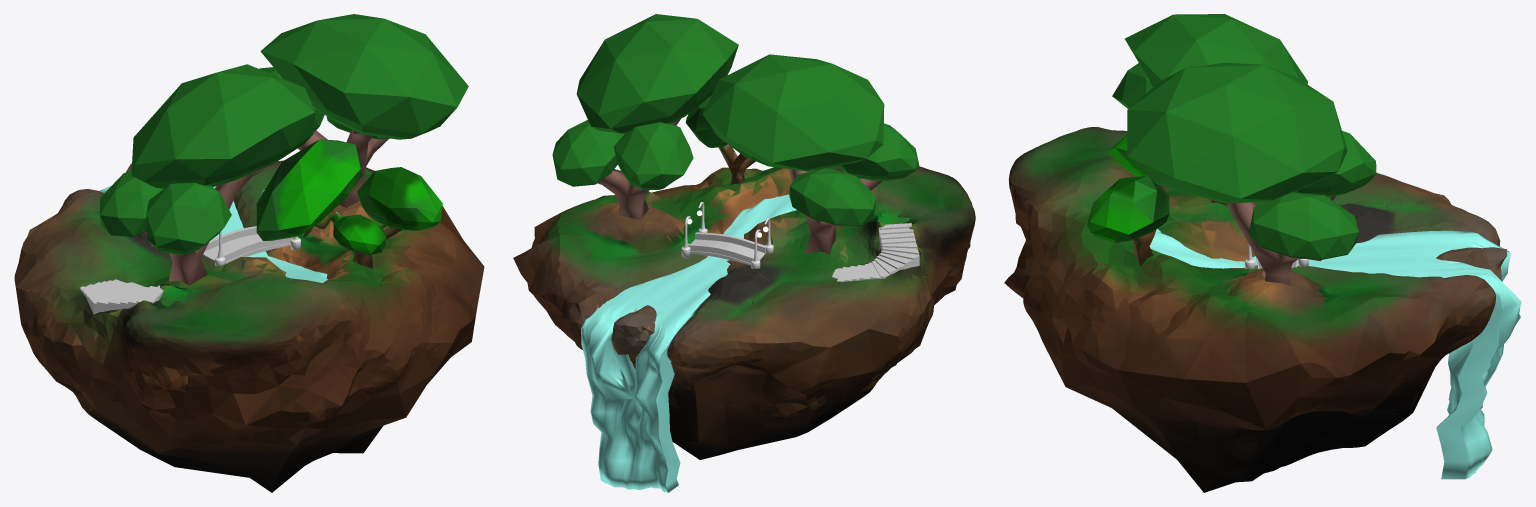
The model's file is landscape.glb.
3 renders of one model, left to right at view 1: azimuth 30°, elevation 25°; view 2: azimuth 150°, elevation 25°; view 3: azimuth 270°, elevation 25°, orthographic. The views are drawn at different scales.
Parts seen in each view (by area): view 1: Icosphere.003, Icosphere.001, Icosphere, Icosphere.005, Stair_Stair.002, Cube.001, Plane; view 2: Icosphere.003, Icosphere.001, Icosphere, Plane, Stair_Stair.002, Icosphere.005, Cube.001; view 3: Icosphere.003, Icosphere, Plane, Icosphere.001, Icosphere.005.
Boxes of the visible parts, left/top/right/bottom form: Icosphere.003: left=14, top=160, right=484, bottom=492; Icosphere.001: left=99, top=64, right=315, bottom=285; Icosphere: left=259, top=14, right=468, bottom=207; Icosphere.005: left=256, top=139, right=442, bottom=268; Stair_Stair.002: left=80, top=279, right=163, bottom=314; Cube.001: left=202, top=226, right=293, bottom=263; Plane: left=99, top=186, right=327, bottom=282; Icosphere.003: left=513, top=166, right=975, bottom=459; Icosphere.001: left=702, top=54, right=919, bottom=254; Icosphere: left=552, top=14, right=738, bottom=220; Plane: left=581, top=194, right=797, bottom=492; Stair_Stair.002: left=832, top=223, right=919, bottom=281; Icosphere.005: left=685, top=95, right=770, bottom=184; Cube.001: left=688, top=232, right=765, bottom=265; Icosphere.003: left=1004, top=127, right=1507, bottom=492; Icosphere: left=1127, top=62, right=1376, bottom=285; Plane: left=1149, top=228, right=1521, bottom=479; Icosphere.001: left=1112, top=14, right=1307, bottom=205; Icosphere.005: left=1087, top=134, right=1169, bottom=266.
Size of the model in its own units: 18.47 by 18.12 by 19.53.
Materials: 19 (14 with a texture image).
